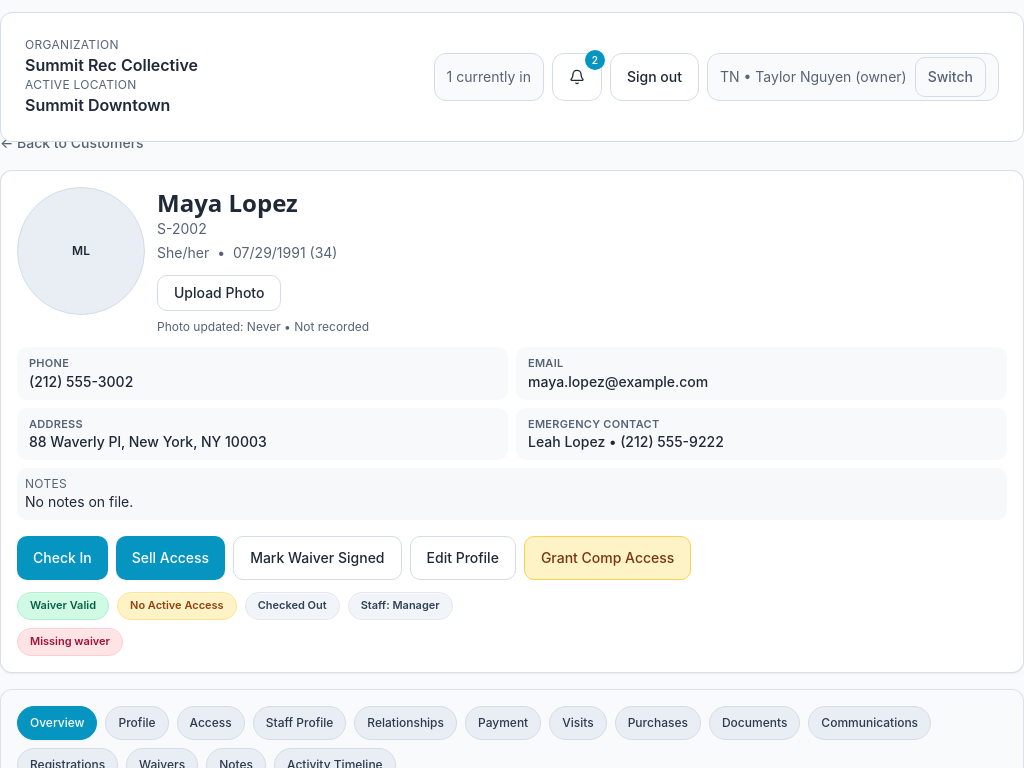
Test case: Staff management MVP › suspend staff uses custom confirmation modal
The image size is (1024, 768).
Click the button "Switch": (950, 77) [915,57,986,97]
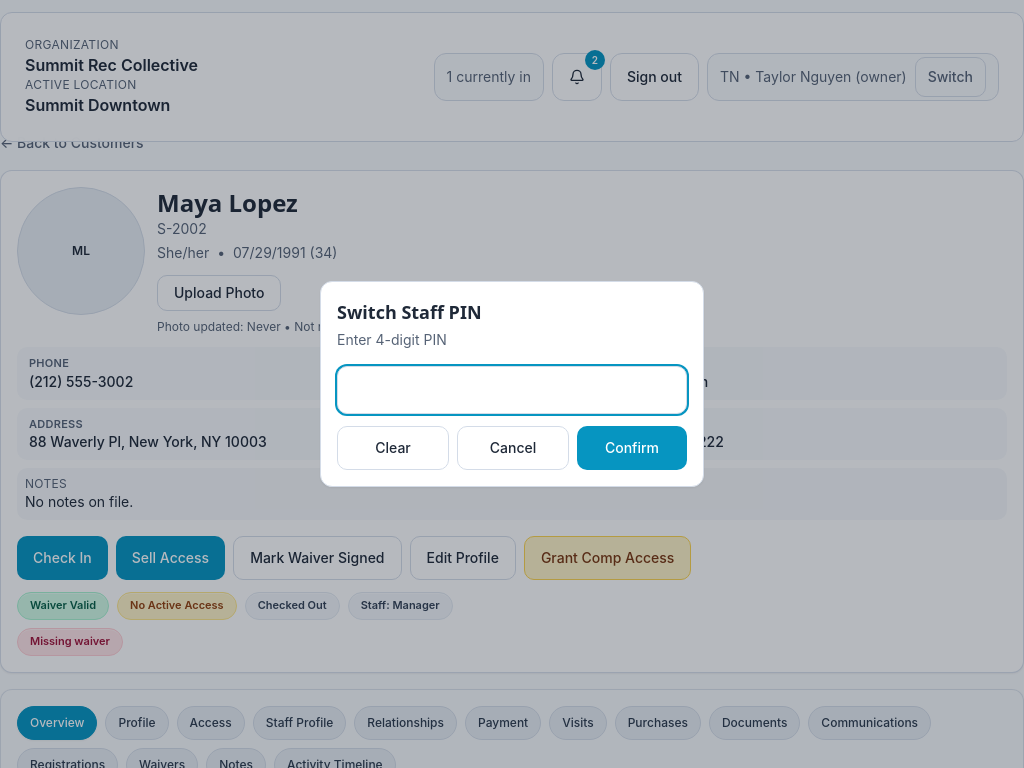
In the password field named "Staff PIN input": (512, 390) [337,366,687,414], type "1111"
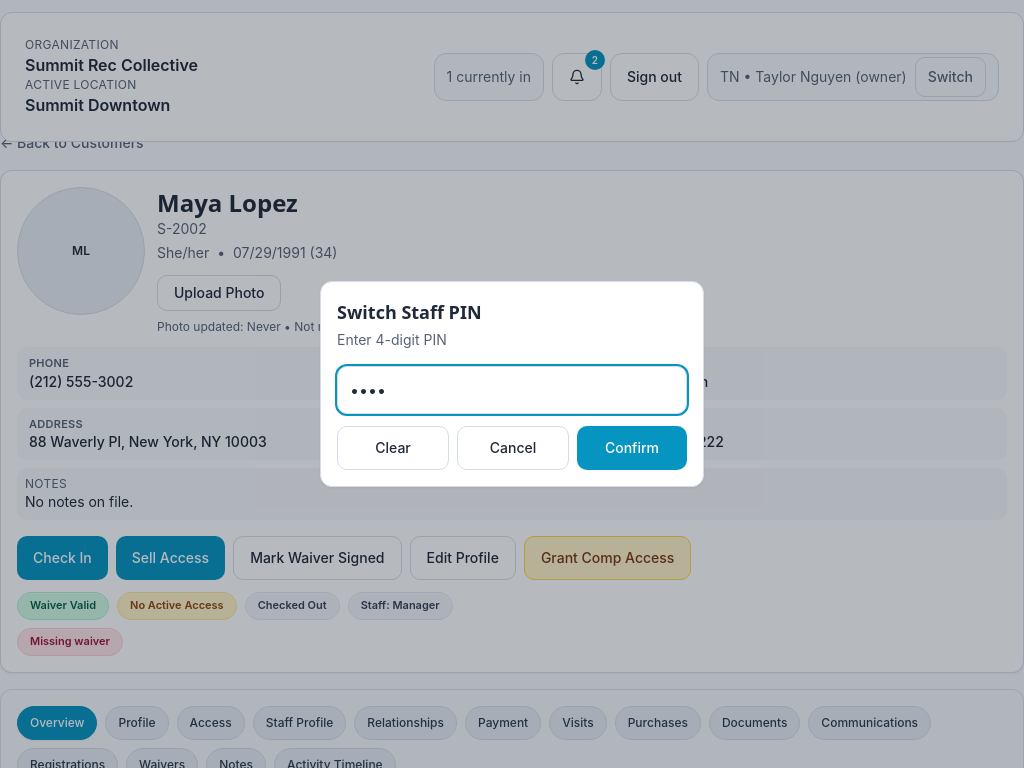
Click the button "Confirm": (632, 448) [577,426,687,470]
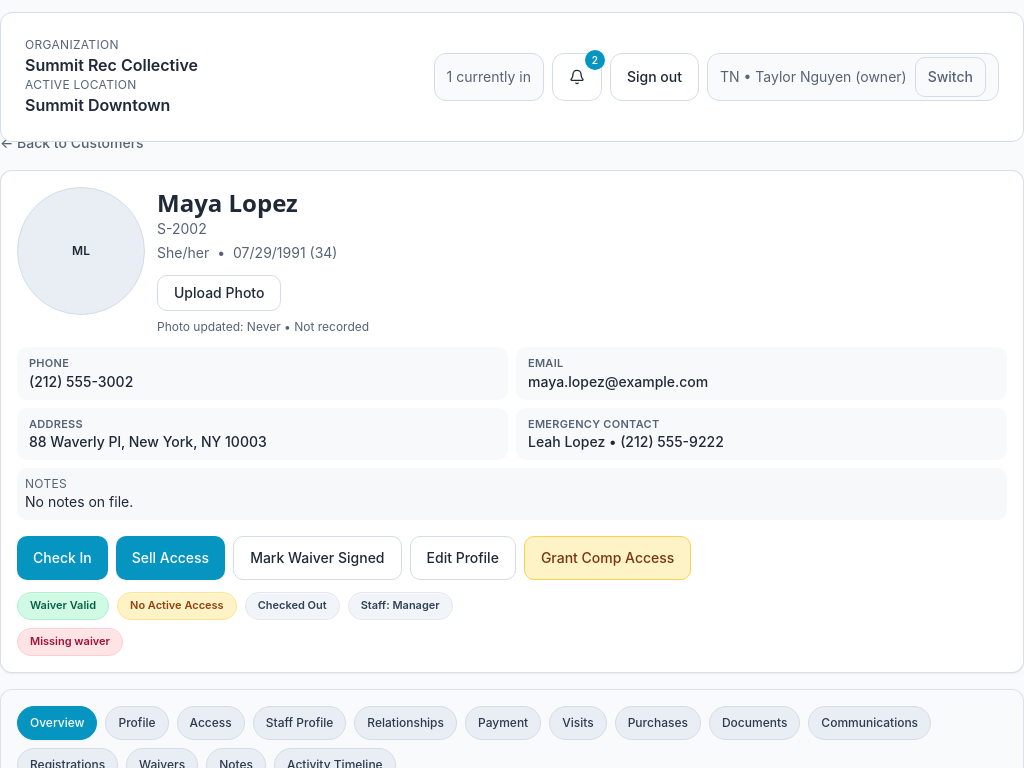
Click the link "Staff Profile": (300, 723) [253,706,346,740]
(page scrolled)
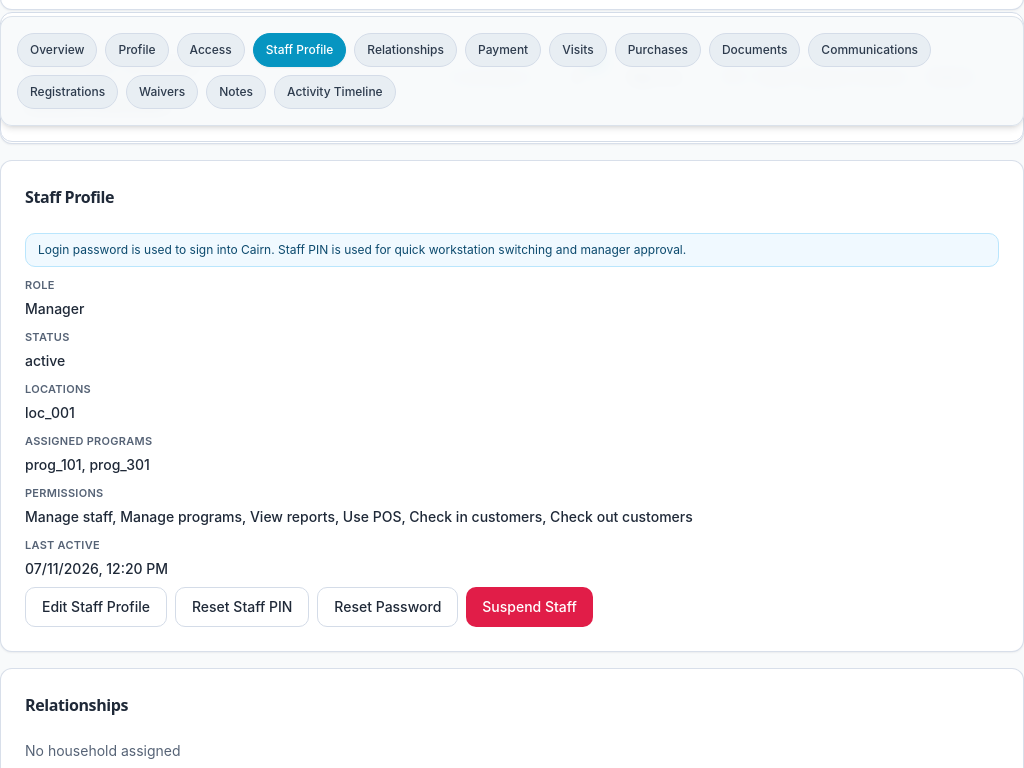
Click the button "Suspend Staff": (530, 607) [466,587,593,627]
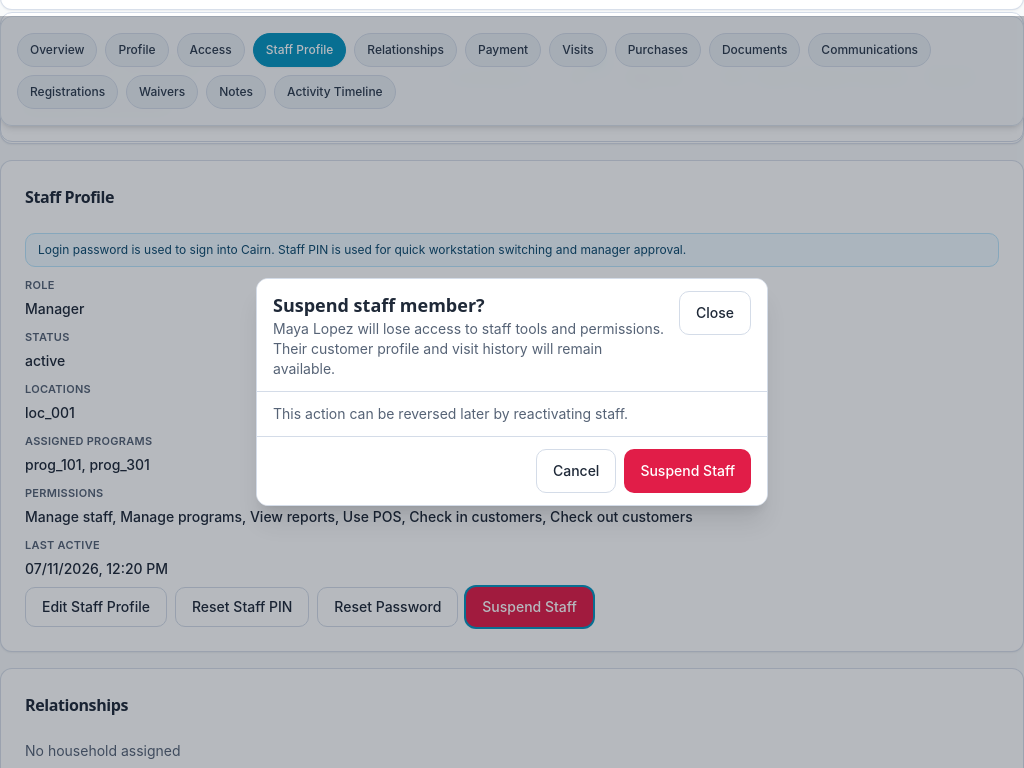
Expected: the dialog named "Suspend staff confirmation" is shown
